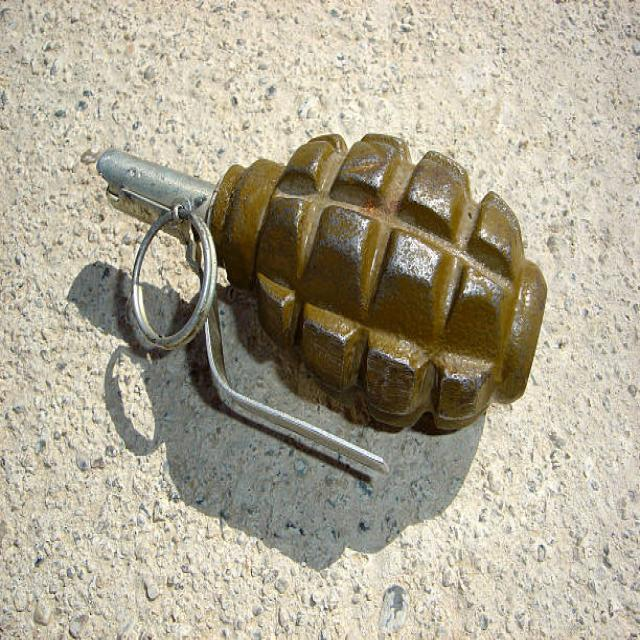grenade: (84, 118, 553, 486)
